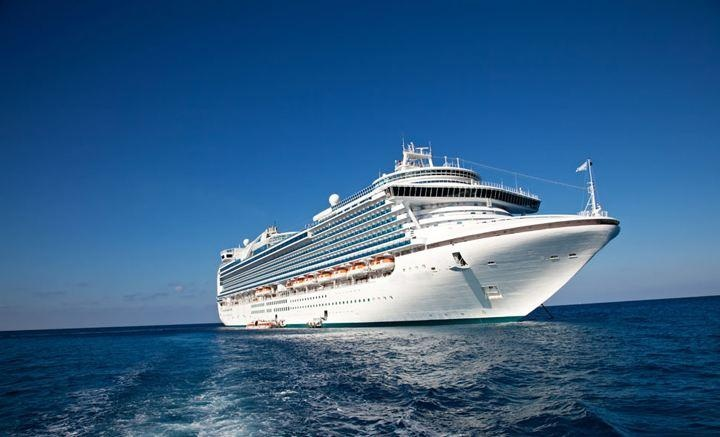youlun: (214, 136, 619, 338)
